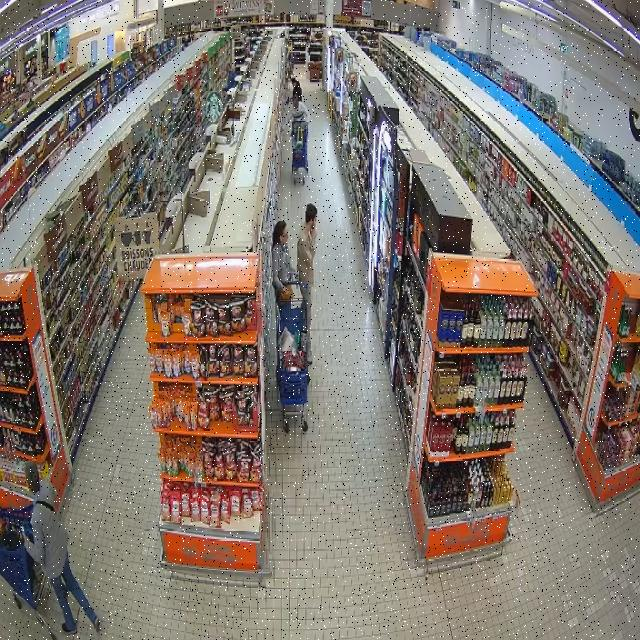person: (25, 461, 99, 634), (297, 204, 317, 362), (273, 220, 292, 293), (281, 92, 308, 128)
